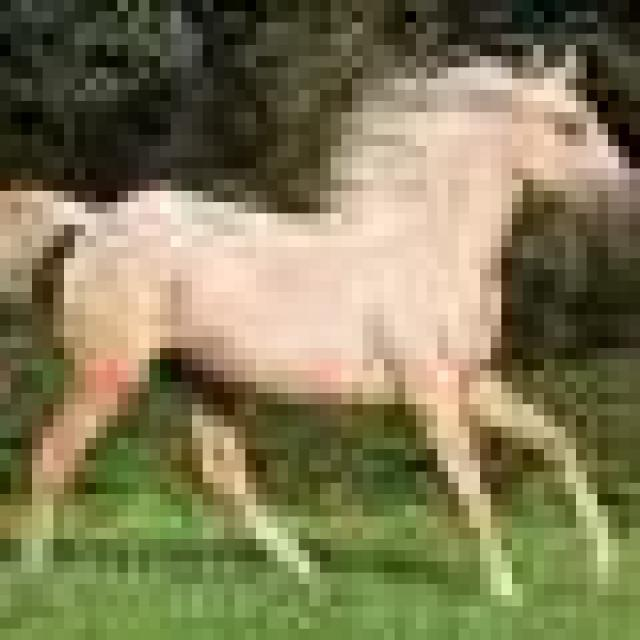horse: (0, 67, 565, 573)
